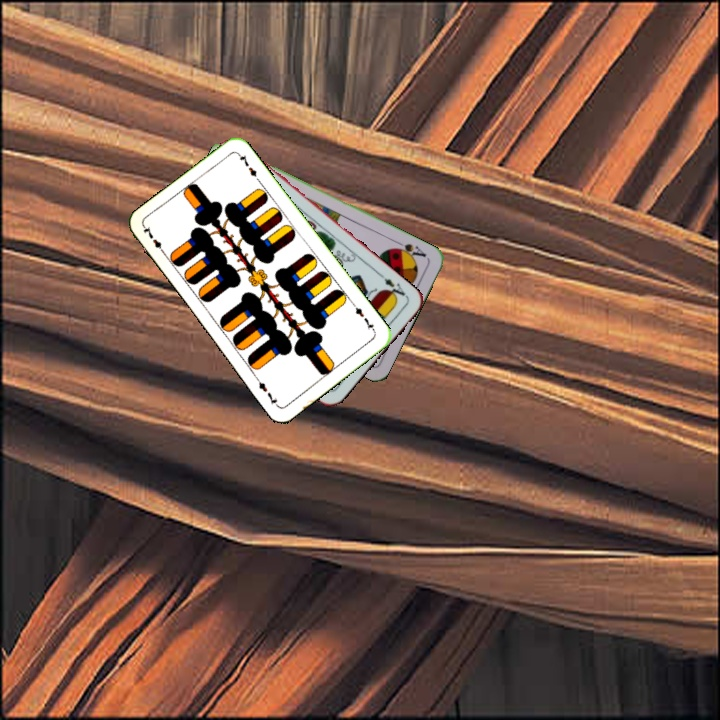E7: (139, 222, 168, 258), (349, 300, 378, 335)
EA: (376, 270, 410, 302)
SA: (389, 237, 429, 262)
